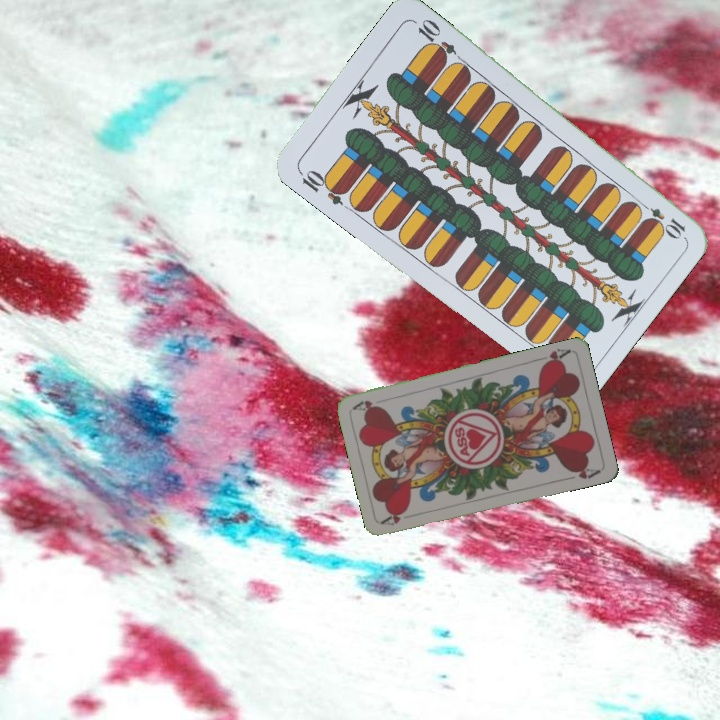E10: (295, 165, 350, 208), (634, 197, 688, 240)
HA: (533, 345, 573, 369), (378, 506, 409, 528)
